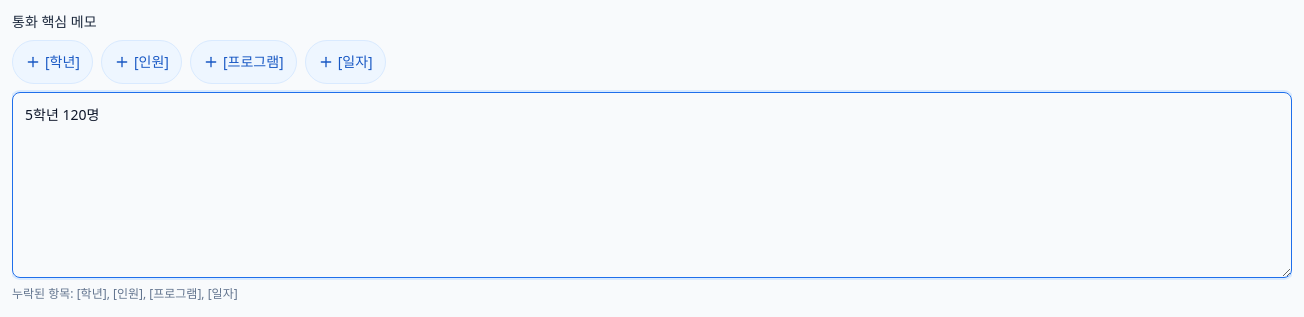
Test case: ConsultationMemoField › inserts the chip token at the caret position and keeps the caret after it
This screenshot has width=1304, height=317.
Click the button with aria-label "[인원] 삽입".
click(142, 62)  # box left=101, top=40, right=182, bottom=84
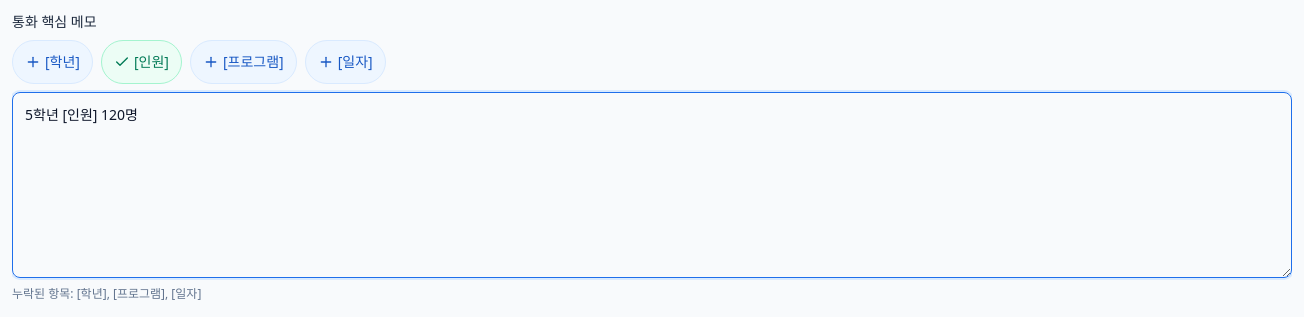
Expected: the text box labelled "통화 핵심 메모" holds "5학년 [인원] 120명", left=12, top=92, right=1292, bottom=278
Type keys "4반"
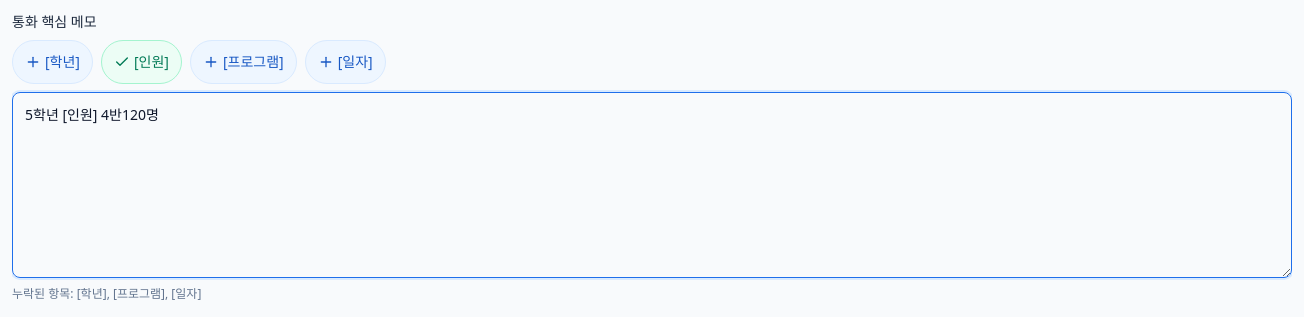
Expected: the text box labelled "통화 핵심 메모" holds "5학년 [인원] 4반120명", left=12, top=92, right=1292, bottom=278
